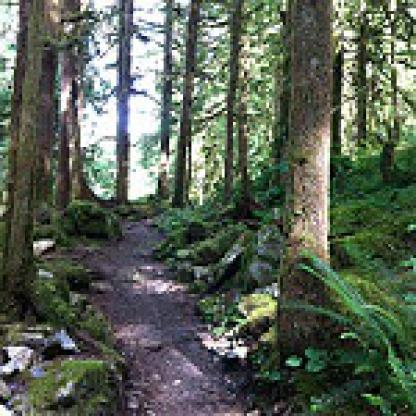trunk: (274, 0, 344, 377), (0, 0, 51, 325), (50, 0, 103, 211), (169, 0, 208, 208), (222, 0, 255, 208), (113, 0, 138, 205), (156, 0, 176, 200)
